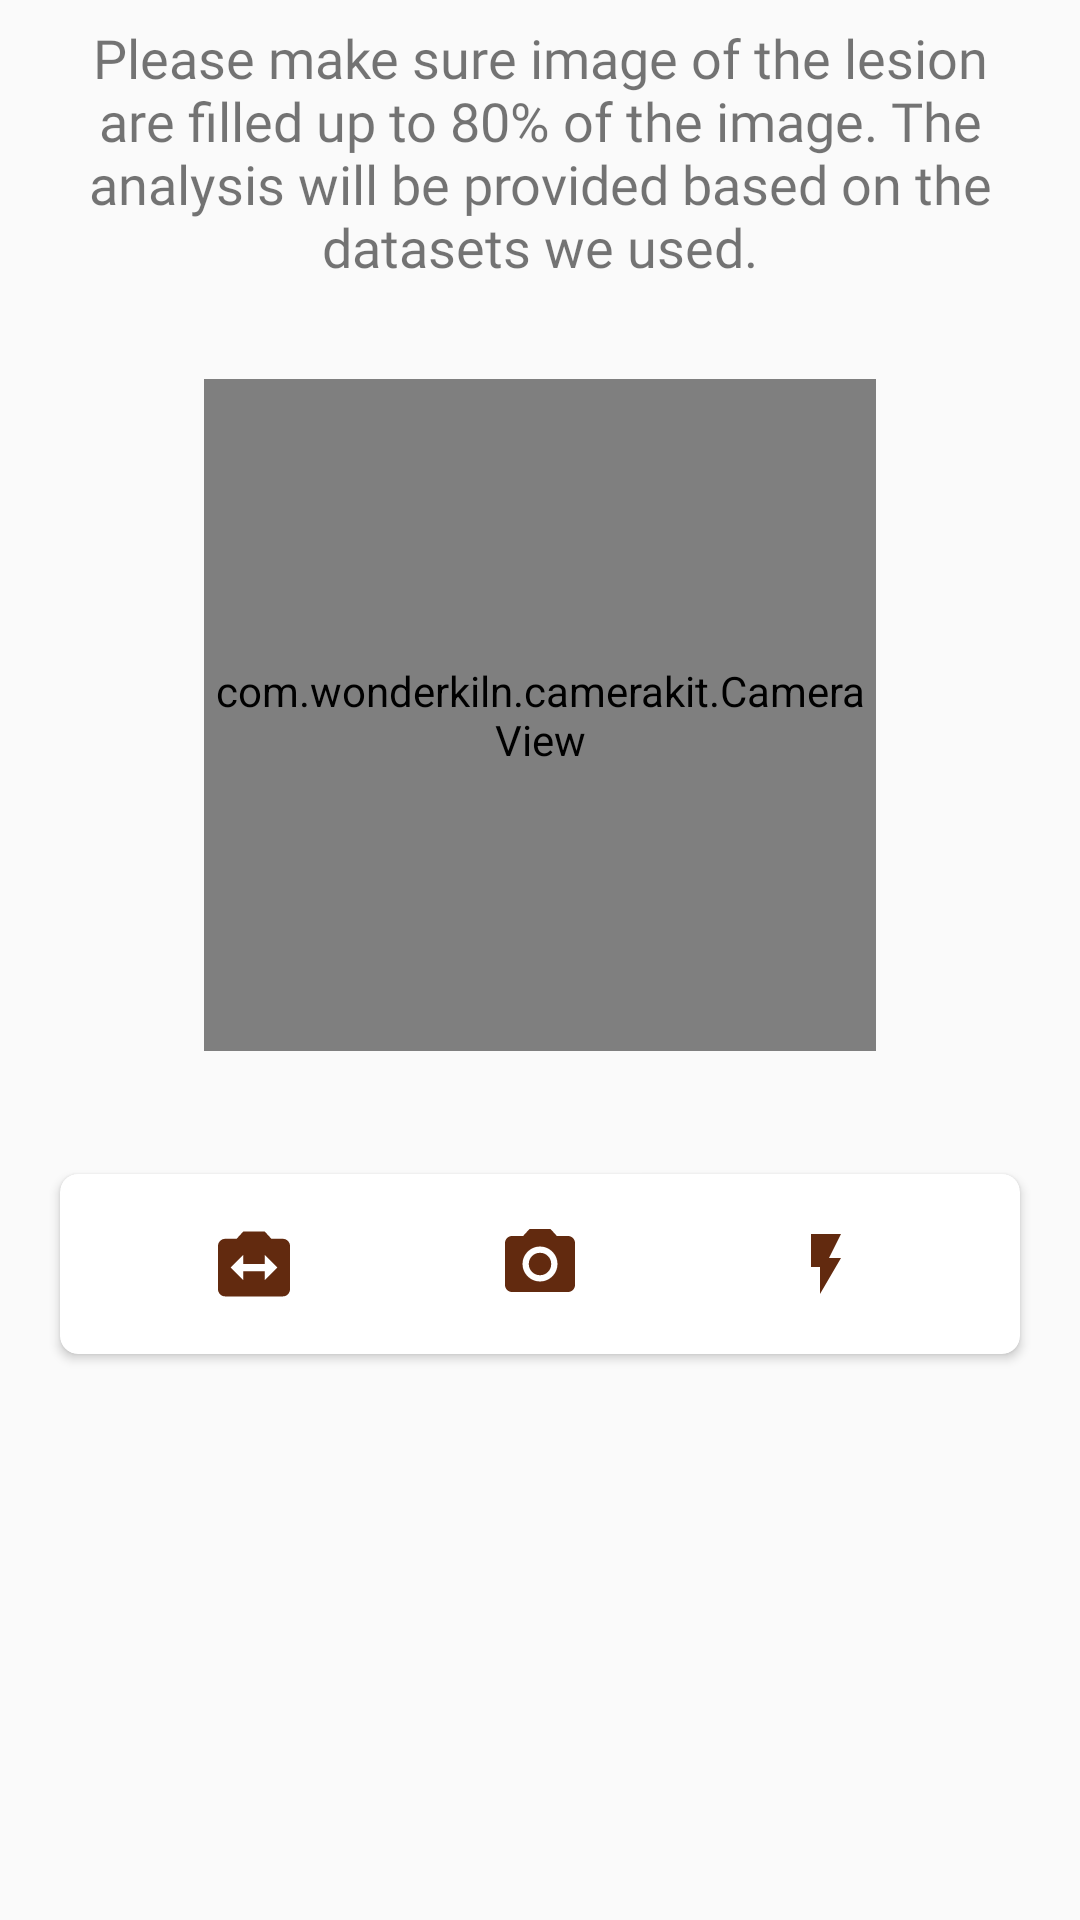

Point at icon controls on the screen. Image size 1080*1920, points as point (x, y).
camera: point (540, 1260)
flash on: point (826, 1264)
switch camera: point (254, 1264)
